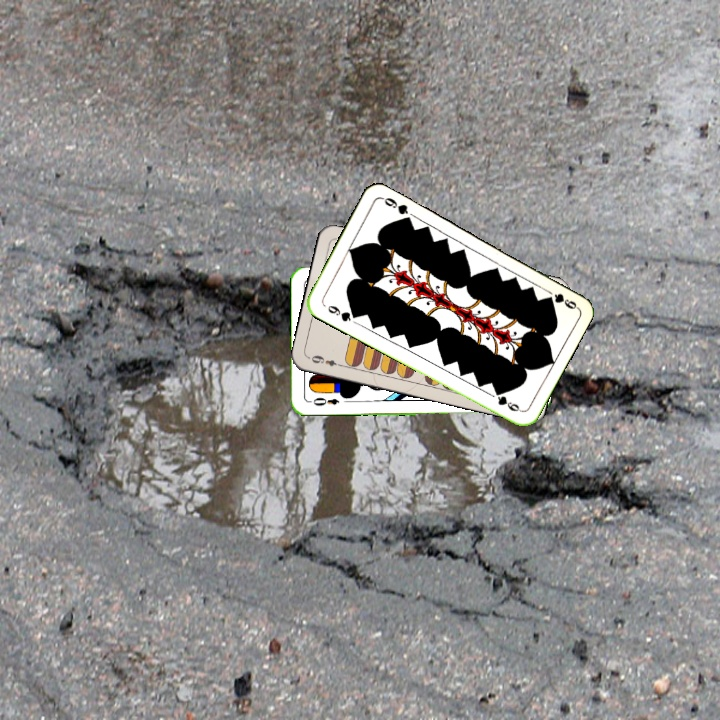E9: (305, 351, 345, 369)
EO: (306, 394, 342, 409)
G9: (324, 301, 360, 324), (550, 289, 579, 312)
